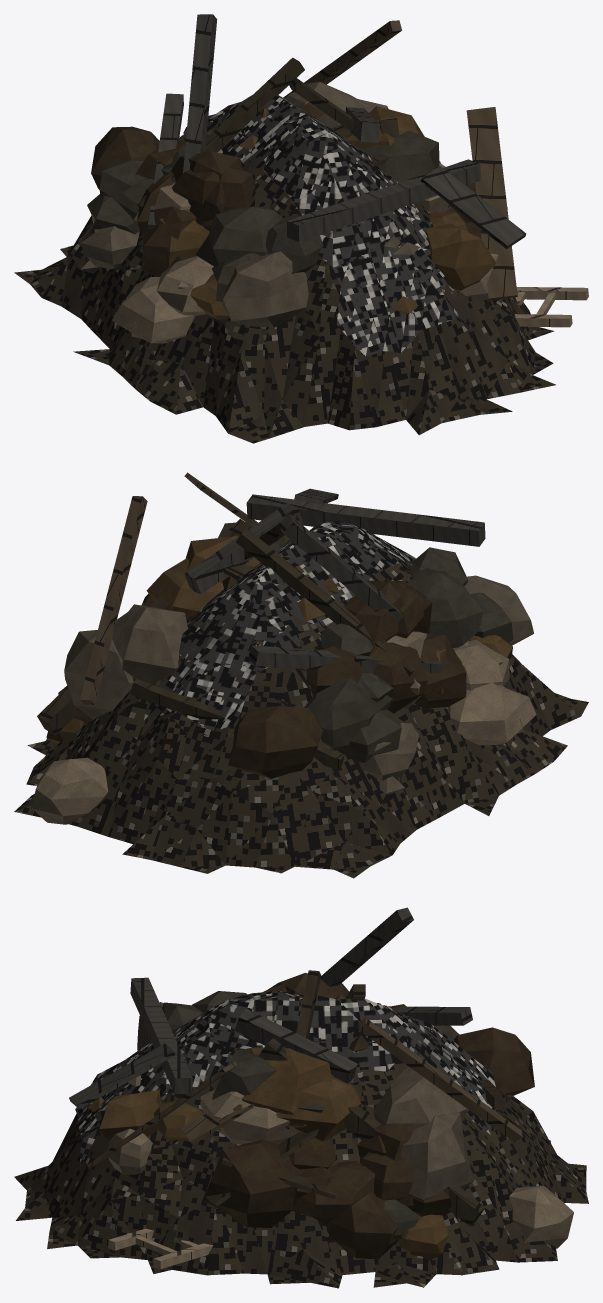
Rendered from AraHut12a.glb.
3 renders of one model, top to bottom at view 1: azimuth 30°, elevation 25°; view 2: azimuth 150°, elevation 25°; view 3: azimuth 270°, elevation 25°, orthographic. The views are drawn at different scales.
Parts seen in each view (by area): view 1: AraHut12a_bed; view 2: AraHut12a_bed; view 3: AraHut12a_bed.
Boxes of the visible parts, x1,y1,x2,y2 form: AraHut12a_bed: (14, 14, 588, 443); AraHut12a_bed: (14, 472, 588, 878); AraHut12a_bed: (14, 907, 588, 1288).
Bounding box in the file's own units: 5.13 × 3.26 × 6.37.
11 materials, 11 textured.
